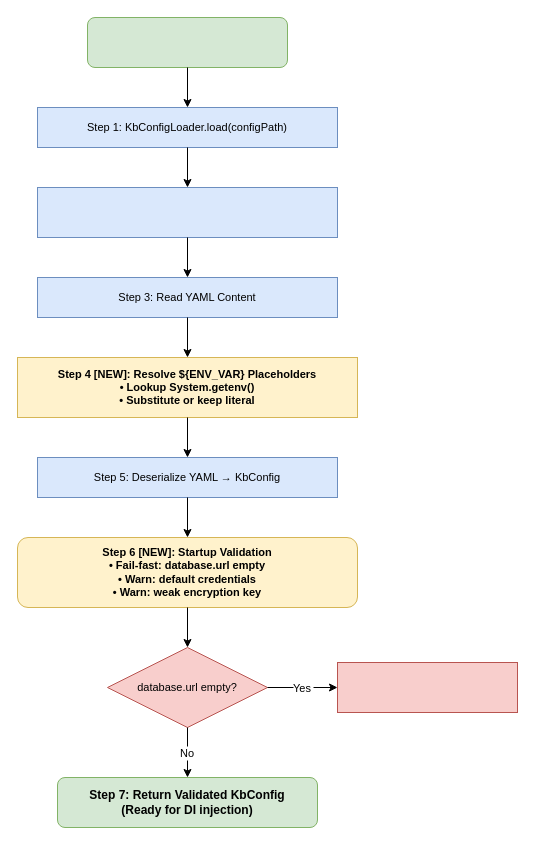
Some shapes in this 535 by 845 pixel diagram are drawn without their labels. Each missing label, with the centre of its shape:
"Application Starts" belongs at point 187,42.
"IllegalStateException (Startup BLOCKED)" belongs at point 427,687.
"Step 2: Locate Config File (specified path → defaults → fallback)" belongs at point 187,212.
